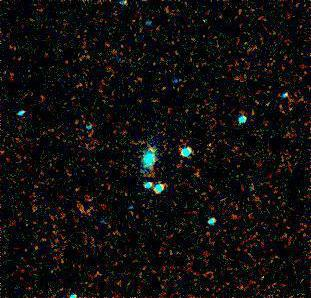star: (137, 133, 167, 163)
